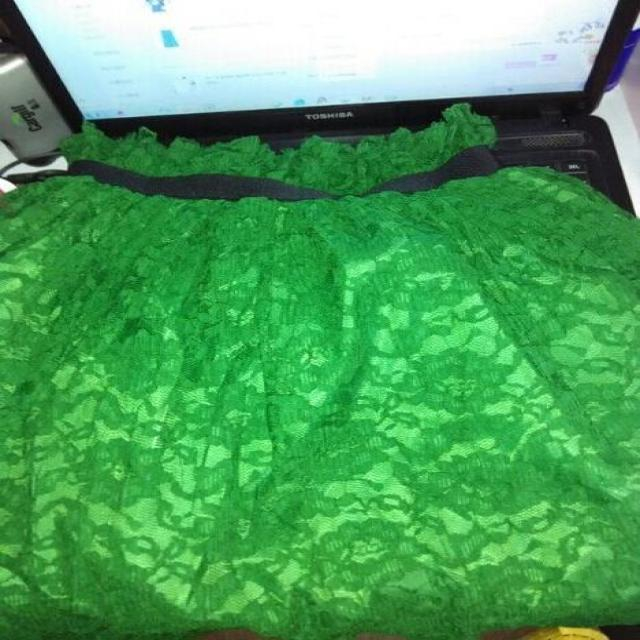skirt: (3, 103, 637, 639)
